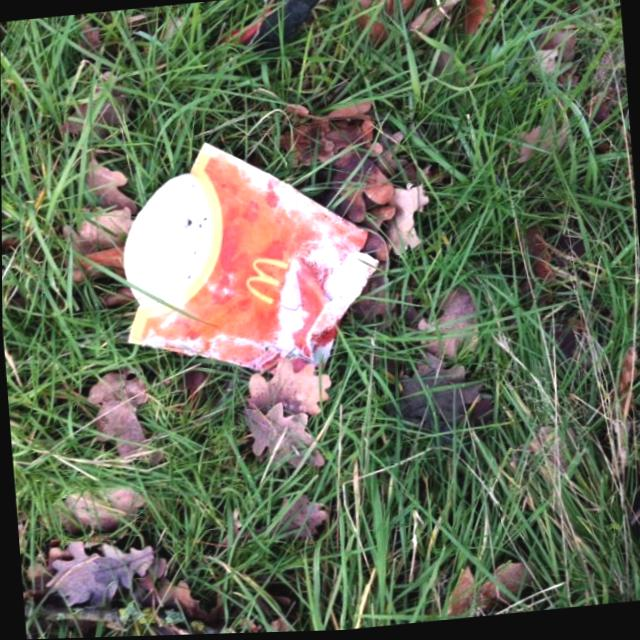Paper: (110, 125, 388, 396)
